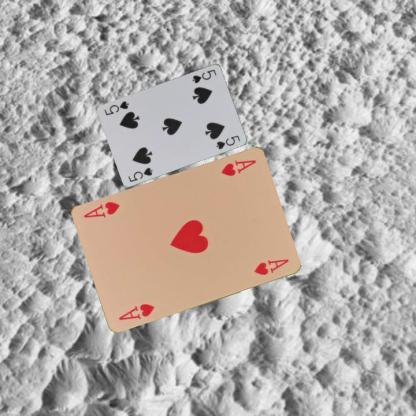5s: (189, 66, 218, 84), (126, 165, 154, 183)
Ah: (218, 156, 258, 178), (116, 300, 156, 322)
